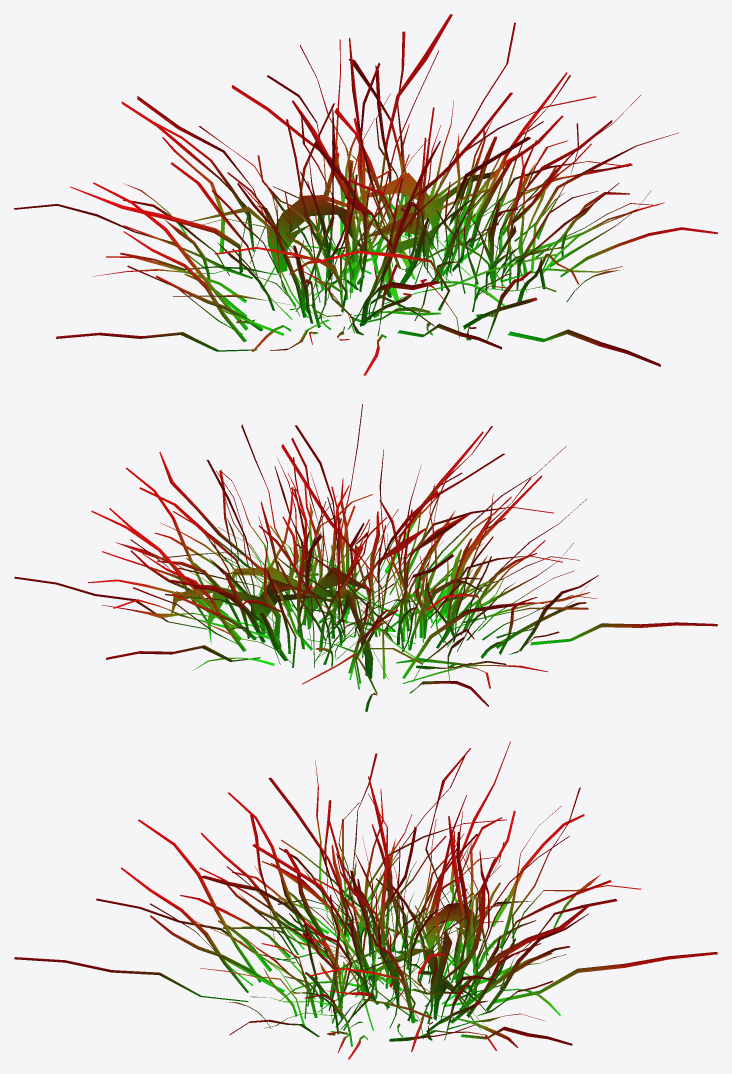
File: Tundra Grass_LOD1_Var3_wk2oaeyqx.fbx
3 views of the same model, one above another, from view 1: azimuth 30°, elevation 25°; view 2: azimuth 150°, elevation 25°; view 3: azimuth 270°, elevation 25° (orthographic). The views are drawn at different scales.
Visible parts, largest first — view 1: _v1i2_Var3_LOD1; view 2: _v1i2_Var3_LOD1; view 3: _v1i2_Var3_LOD1.
Part boxes in pixels (<box>): _v1i2_Var3_LOD1: <box>14,14,717,375</box>; _v1i2_Var3_LOD1: <box>14,404,717,711</box>; _v1i2_Var3_LOD1: <box>14,741,717,1059</box>.
Bounding box in the file's own units: 56.2 × 17.9 × 58.65.
